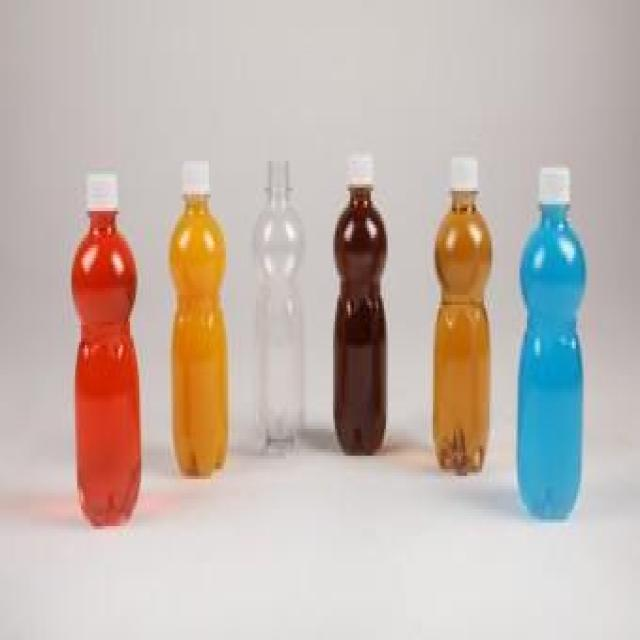bottle: (513, 161, 594, 523), (67, 175, 148, 530), (433, 154, 493, 476), (168, 161, 228, 476), (331, 154, 390, 456), (248, 160, 307, 446)
